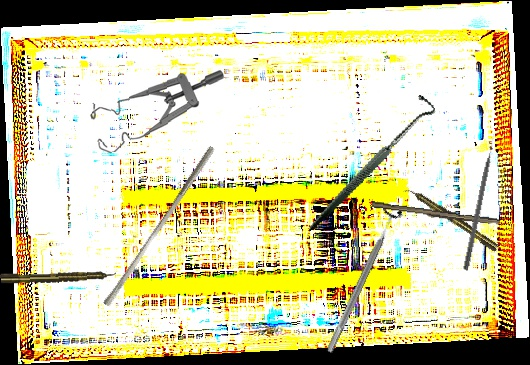Fixation Ring: (317, 201, 406, 358)
Handpiece: (403, 183, 501, 254), (0, 269, 117, 285)
Hook Surgical: (280, 92, 459, 231)
Pusher: (102, 141, 216, 311), (462, 133, 499, 272)
Scalpel Handle: (370, 201, 501, 227)
Speculum: (88, 69, 229, 154)
